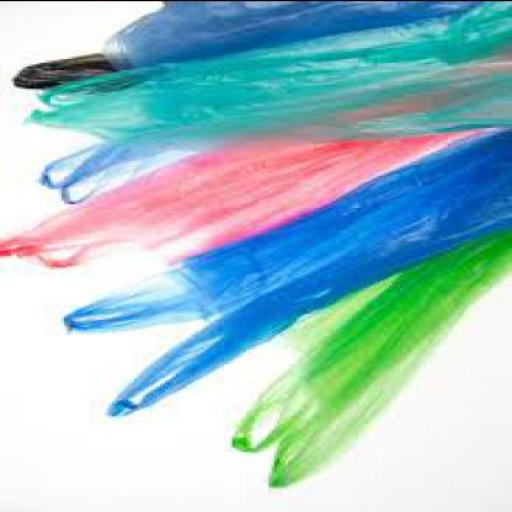plastic: (58, 132, 509, 419), (0, 80, 510, 272), (229, 232, 509, 488), (20, 2, 510, 137), (34, 84, 509, 197), (101, 2, 509, 71), (9, 52, 112, 91)
